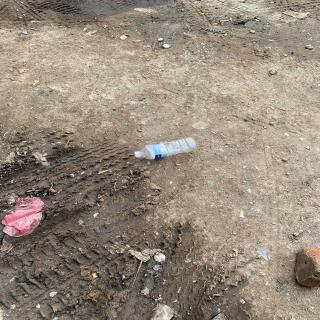Plastic-bottle: (128, 137, 200, 163)
